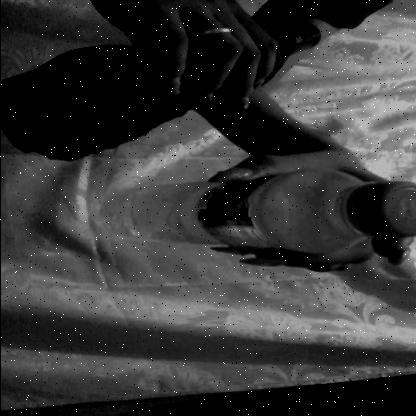Plastic Bottle: (106, 176, 416, 252)
